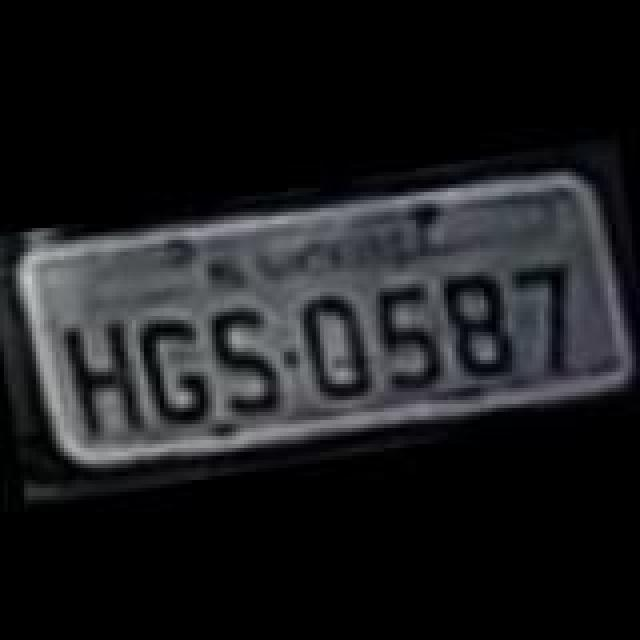5: (364, 266, 452, 398)
7: (504, 250, 584, 374)
8: (434, 258, 526, 390)
G: (134, 304, 226, 432)
H: (56, 304, 152, 448)
O: (292, 284, 380, 404)
S: (202, 296, 286, 424)
